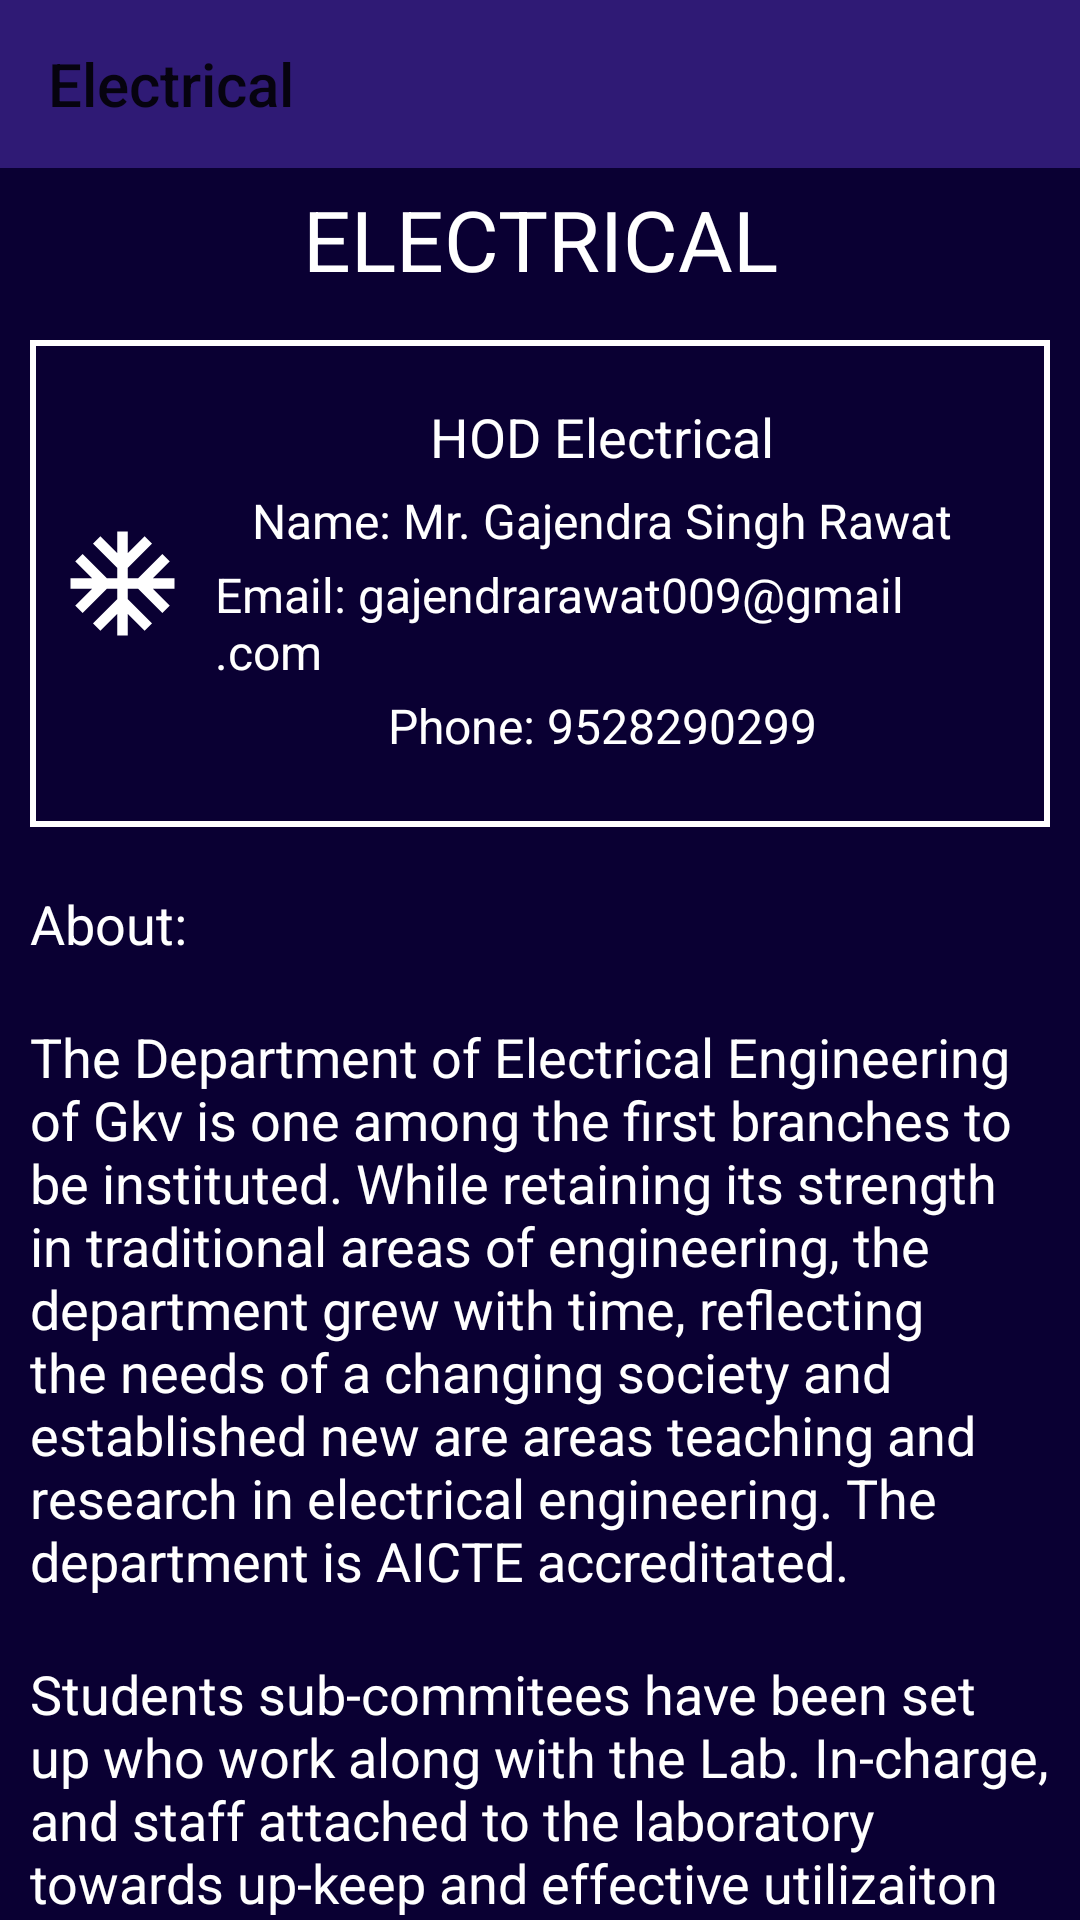

Icon click points for this 1080w x 1920h phone screenshot, format (x=x, y=y):
ac unit: (x=122, y=583)
